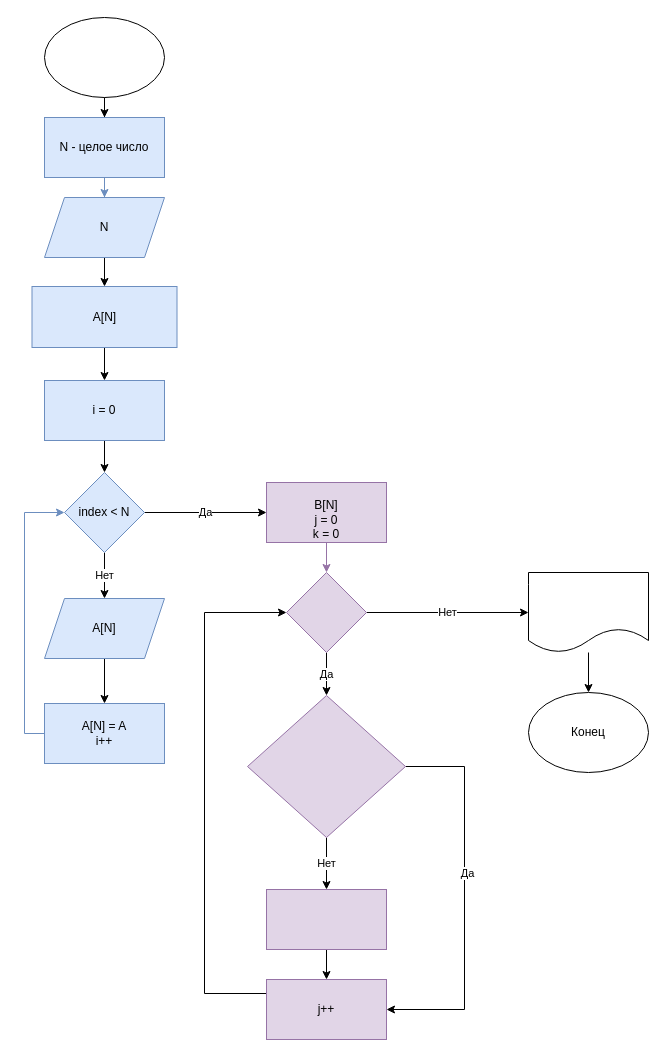
The diagram is 666 pixels wide and 1057 high, and some of its shapes have lost their labels. The shapes that lost their labels are listed below. From the top down, each one's box as (x1, y1, x2, y2) in pixels, then its label:
(44, 16, 164, 98): FINAL_WORK
(286, 572, 366, 652): j < N
(528, 572, 648, 652): print B [N]
(246, 694, 406, 838): A[N].lenght < = 3
(266, 888, 386, 950): B[N] = A[N] k++
